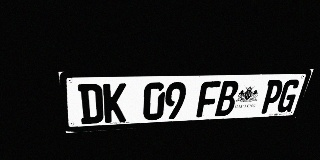0: (143, 82, 166, 121)
9: (163, 82, 187, 119)
B: (215, 81, 240, 116)
D: (78, 84, 104, 124)
F: (196, 81, 221, 117)
G: (275, 79, 302, 113)
K: (103, 83, 126, 123)
P: (259, 80, 285, 114)
